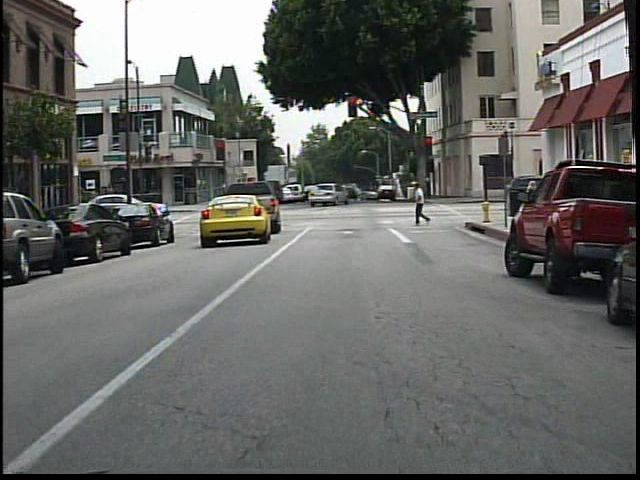person: (409, 180, 435, 228)
